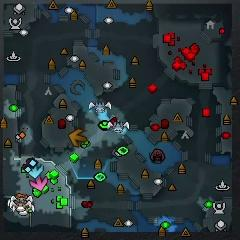x1: (29, 176, 49, 191)
x3: (27, 161, 45, 179)
x5: (68, 129, 87, 147)
